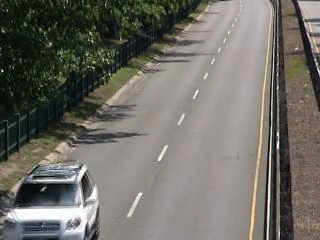car: (5, 158, 107, 240)
